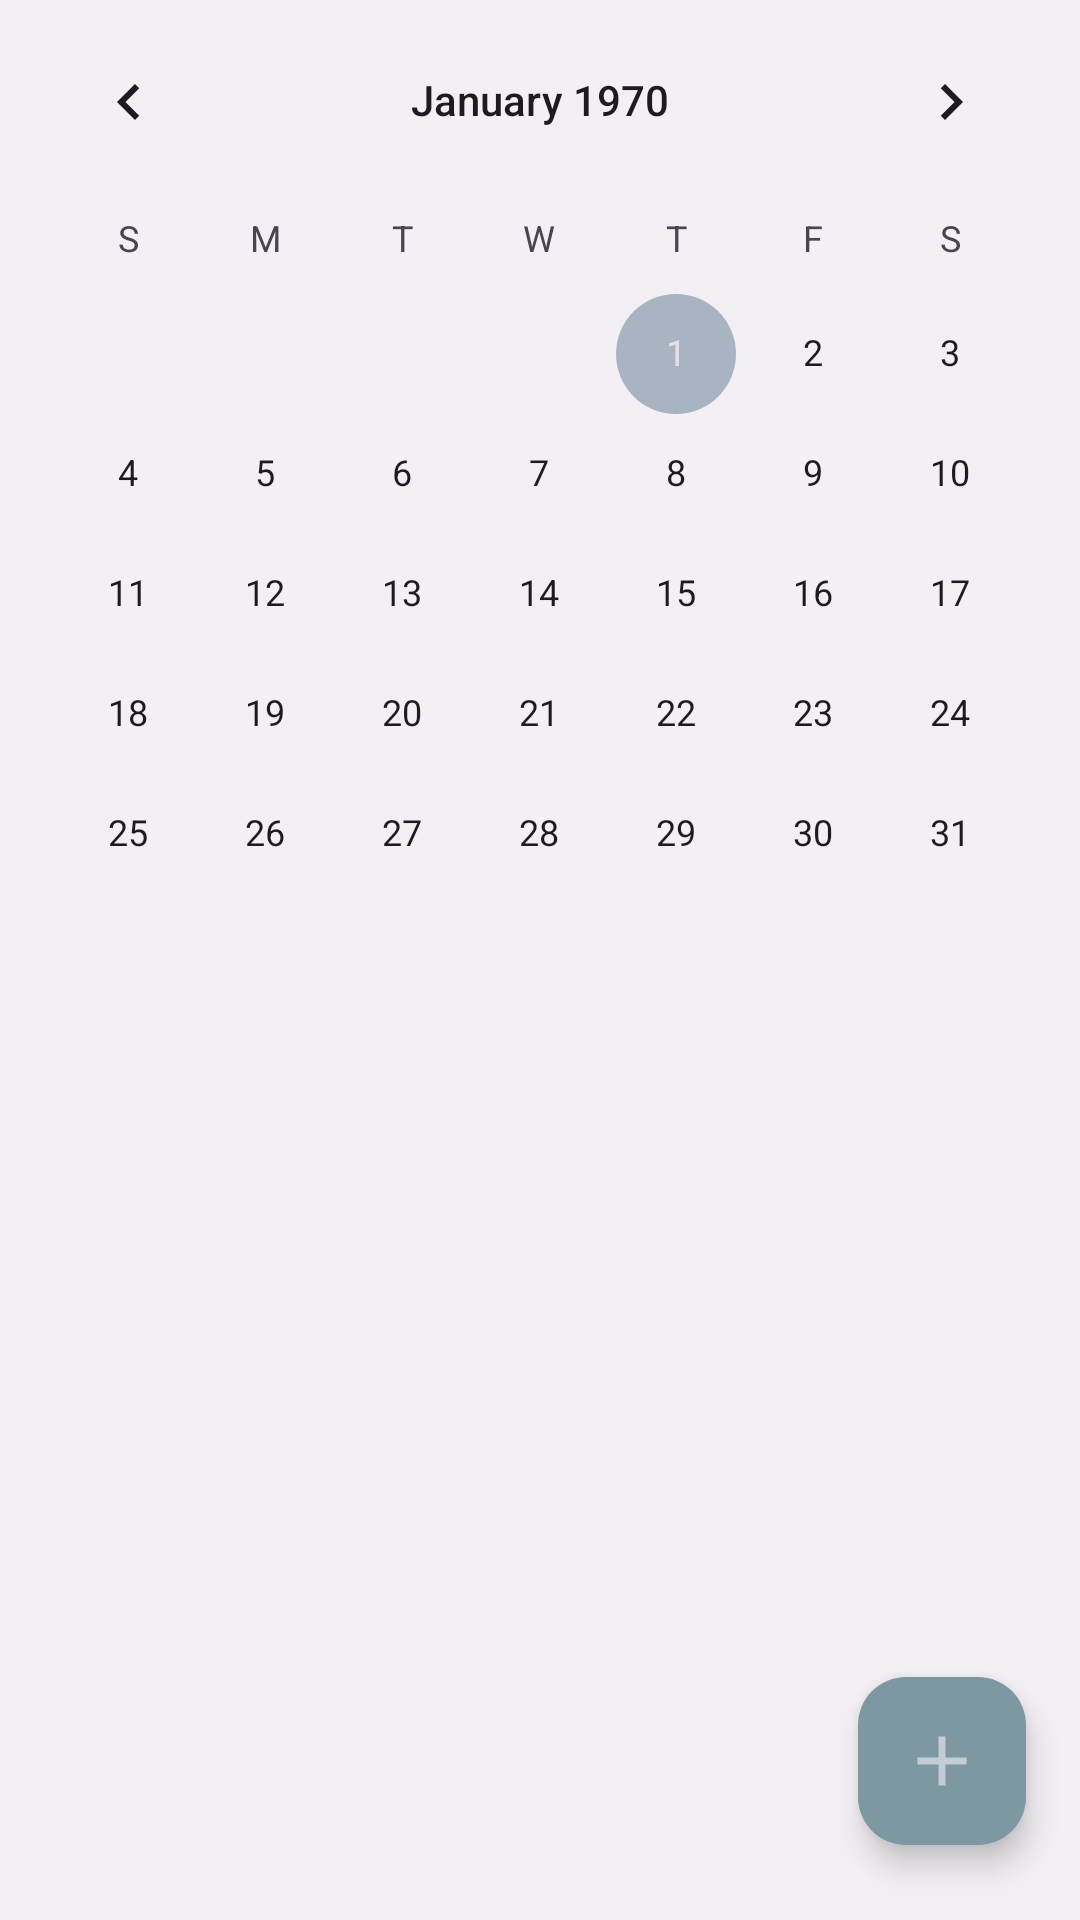

Named icons in this screenshot (1080x1920) and their centers, [x,y]:
add: [942,1761]
